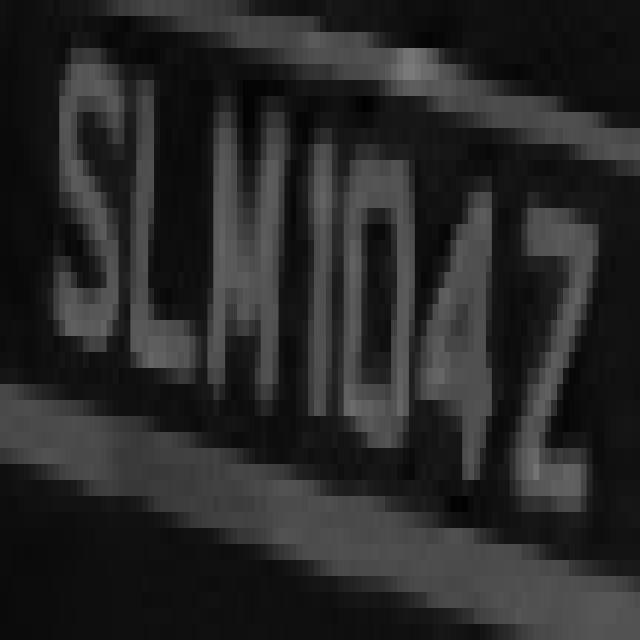0: (338, 80, 427, 512)
1: (278, 96, 338, 496)
4: (421, 96, 504, 560)
L: (125, 32, 208, 464)
M: (190, 48, 284, 480)
S: (36, 48, 130, 416)
Z: (504, 128, 610, 528)
